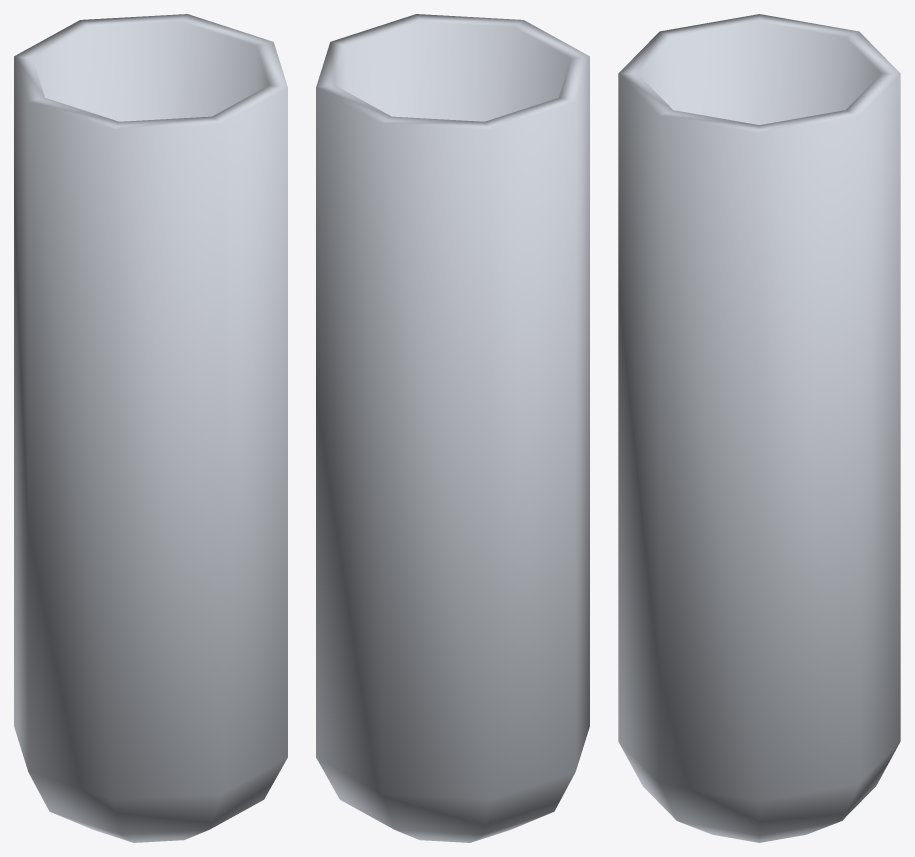
Rendered from bottle_glassware_boiling_tube_medium.glb.
3 views of the same model, side by side, from view 1: azimuth 30°, elevation 25°; view 2: azimuth 150°, elevation 25°; view 3: azimuth 270°, elevation 25° (orthographic).
Parts seen in each view (by area): view 1: bottle_glassware_boiling_tube_medium; view 2: bottle_glassware_boiling_tube_medium; view 3: bottle_glassware_boiling_tube_medium.
Part boxes in pixels (x1,y1,x2,y2): bottle_glassware_boiling_tube_medium: (14,14,287,842); bottle_glassware_boiling_tube_medium: (316,14,589,842); bottle_glassware_boiling_tube_medium: (618,14,900,842).
Bounding box in the file's own units: 5.82 × 16.86 × 5.82.
Materials: 1 (1 with a texture image).
